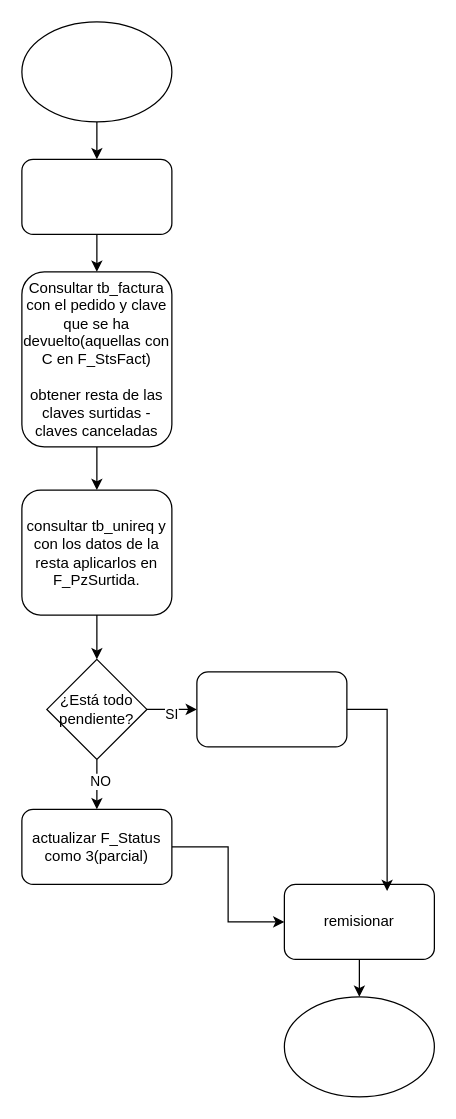
Some shapes in this 456 by 1119 pixel diagram are drawn without their labels. Here are the shapes that lost their labels. From the top down, the centre of each, then its label:
point (96, 196): devolver claves
point (271, 709): actualizar F_Status como 0
